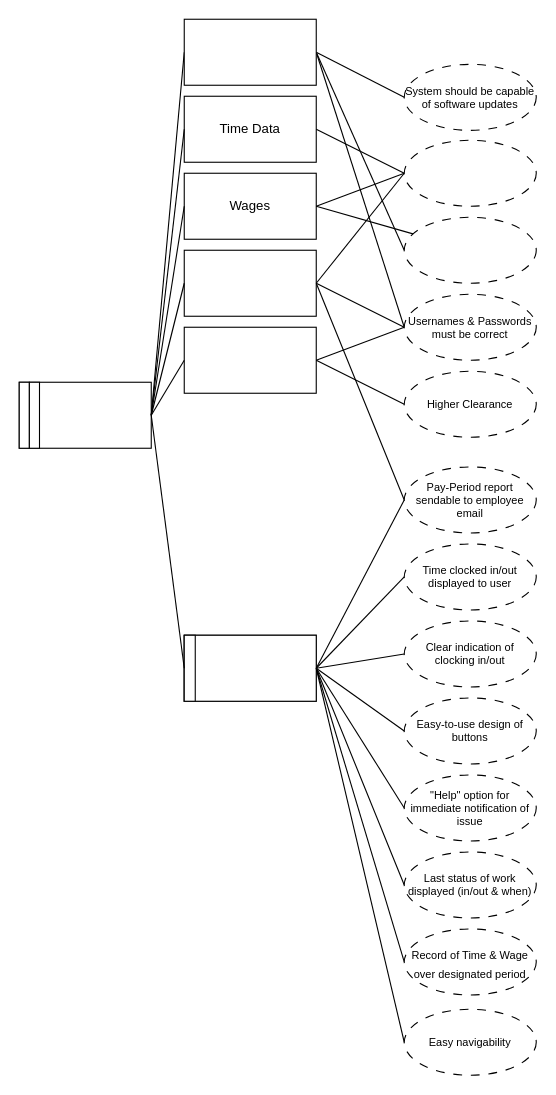
Some shapes in this 556 by 1095 pixel diagram are drawn without their labels. The centre of each missing label's shape, as x and y in pixels:
"Accurate" belongs at (x=469, y=172).
"Administrators" belongs at (x=249, y=359).
"Company Server System" belongs at (x=249, y=51).
"Employees" belongs at (x=249, y=282).
"Time Sheet System" belongs at (x=84, y=414).
"User Report" belongs at (x=249, y=667).
"Wage data tied to employee" belongs at (x=469, y=249).
